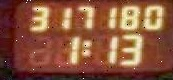1: (67, 34, 78, 65), (105, 34, 115, 65), (60, 5, 71, 30), (105, 4, 116, 28)
3: (117, 31, 142, 65), (27, 4, 48, 30)
7: (75, 3, 95, 28)
8: (118, 3, 138, 29)
X: (78, 38, 92, 57)
